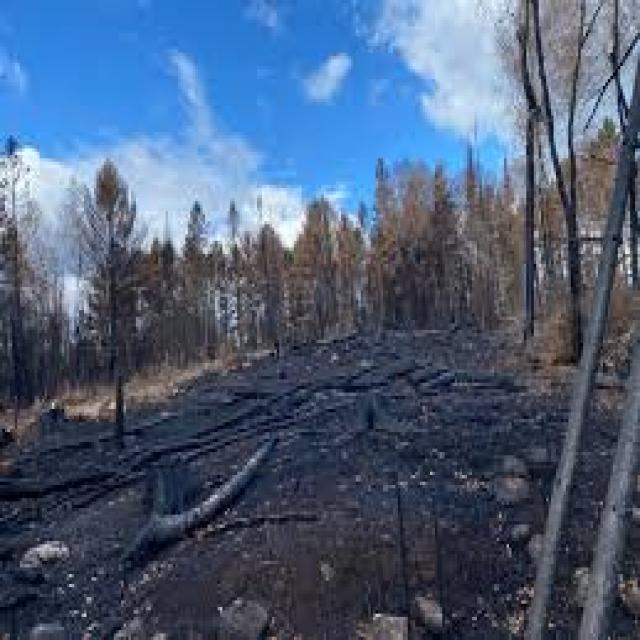Forest Fire: (167, 372, 640, 640)
